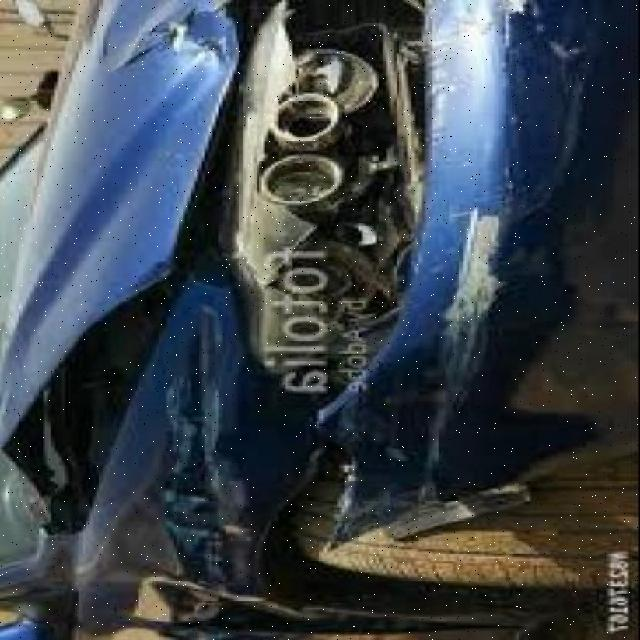damage: (2, 2, 630, 614)
